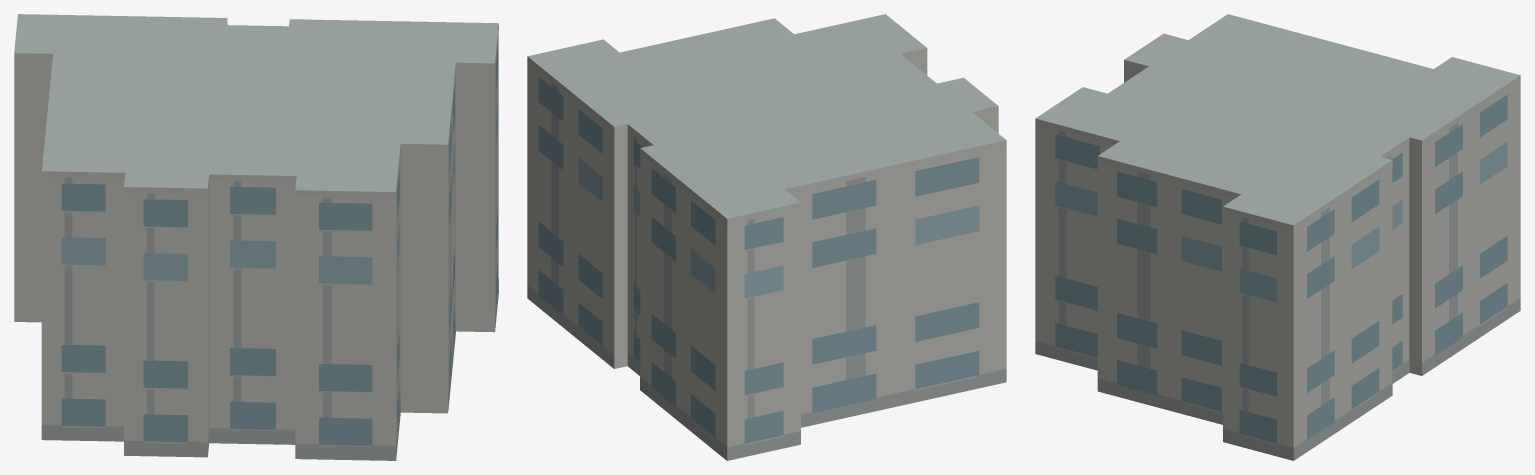
Rendered from survey-upis-32785773.glb.
The picture shows the model from 3 angles, left to right: view 1: azimuth 30°, elevation 25°; view 2: azimuth 150°, elevation 25°; view 3: azimuth 270°, elevation 25°; orthographic projection. The views are drawn at different scales.
Parts seen in each view (by area): view 1: survey-upis-32785773.tmp; view 2: survey-upis-32785773.tmp; view 3: survey-upis-32785773.tmp.
Boxes of the visible parts, x1,y1,x2,y2 form: survey-upis-32785773.tmp: (14, 14, 498, 460); survey-upis-32785773.tmp: (527, 14, 1006, 460); survey-upis-32785773.tmp: (1035, 14, 1520, 460).
Bounding box in the file's own units: 20.5 × 10.64 × 19.88.
